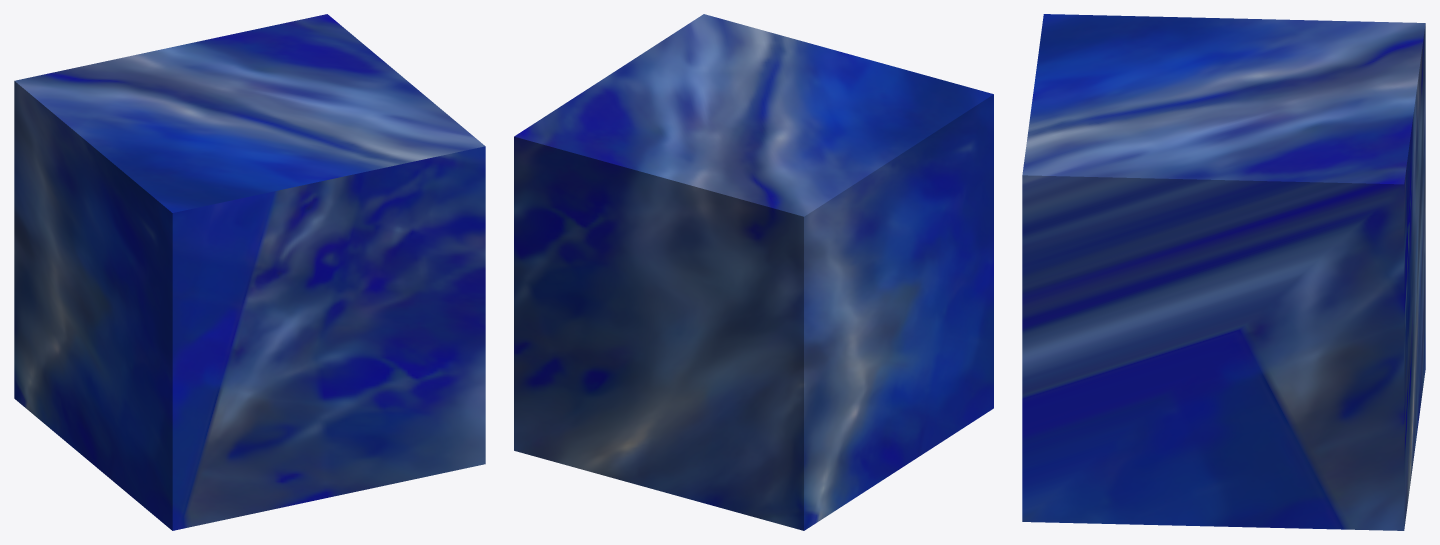
The model's file is BlueBlocks_13.gltf.
3 renders of one model, left to right at view 1: azimuth 30°, elevation 25°; view 2: azimuth 150°, elevation 25°; view 3: azimuth 270°, elevation 25°, orthographic. The views are drawn at different scales.
Parts seen in each view (by area): view 1: BlueBlocks_13; view 2: BlueBlocks_13; view 3: BlueBlocks_13.
Boxes of the visible parts, box(x1,y1,x2,y2) form: BlueBlocks_13: box(14, 14, 485, 530); BlueBlocks_13: box(514, 14, 993, 530); BlueBlocks_13: box(1022, 14, 1425, 530).
Size of the model in its own units: 6.07 by 5.75 by 6.07.
1 material, 1 textured.
